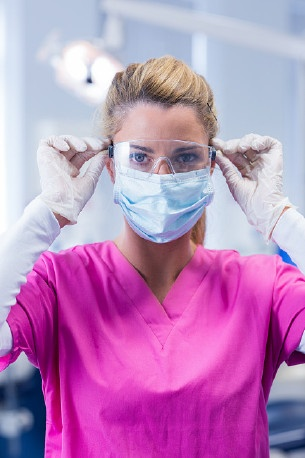Mask: (110, 138, 211, 240)
